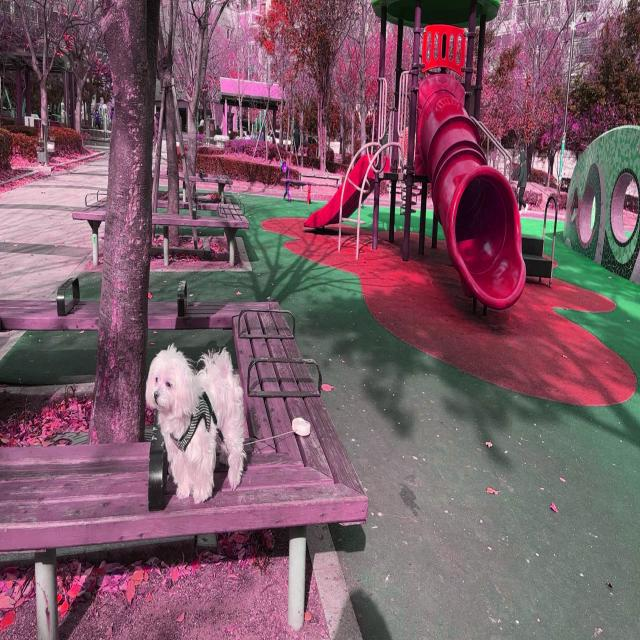Dog: (146, 343, 246, 506)
